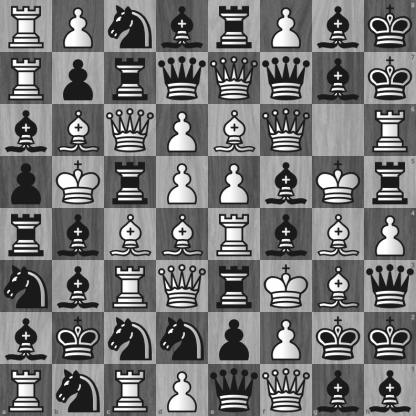B: (53, 105, 104, 156), (105, 209, 156, 260), (157, 209, 208, 260), (209, 105, 260, 156), (313, 209, 364, 260), (313, 261, 364, 312)
K: (53, 157, 104, 208), (261, 261, 312, 312), (313, 157, 364, 208)
P: (156, 364, 209, 416), (364, 209, 416, 260), (53, 1, 104, 52), (157, 105, 208, 156), (157, 157, 208, 208), (209, 157, 260, 208), (261, 1, 312, 52), (261, 313, 312, 364)
Q: (260, 364, 312, 416), (105, 105, 156, 156), (157, 261, 208, 312), (209, 53, 260, 104), (261, 105, 312, 156)
R: (0, 364, 52, 416), (104, 364, 156, 416), (364, 104, 416, 156), (1, 1, 52, 52), (1, 53, 52, 104), (105, 261, 156, 312), (209, 209, 260, 260)
b: (312, 364, 364, 416), (364, 364, 416, 416), (1, 105, 52, 156), (1, 313, 52, 364), (53, 209, 104, 260), (53, 261, 104, 312), (157, 1, 208, 52), (261, 157, 312, 208), (261, 209, 312, 260), (313, 1, 364, 52), (313, 53, 364, 104)
board: (0, 0, 415, 415)
k: (364, 0, 416, 52), (364, 52, 416, 104), (364, 312, 416, 364), (53, 313, 104, 364), (313, 313, 364, 364)
n: (52, 364, 104, 416), (1, 261, 52, 312), (105, 1, 156, 52), (105, 313, 156, 364), (157, 313, 208, 364)
p: (1, 157, 52, 208), (53, 53, 104, 104), (209, 313, 260, 364)
q: (364, 260, 416, 312), (209, 364, 260, 416), (157, 53, 208, 104), (261, 53, 312, 104)
r: (364, 156, 416, 209), (1, 209, 52, 260), (105, 53, 156, 104), (105, 157, 156, 208), (209, 1, 260, 52), (209, 261, 260, 312)
